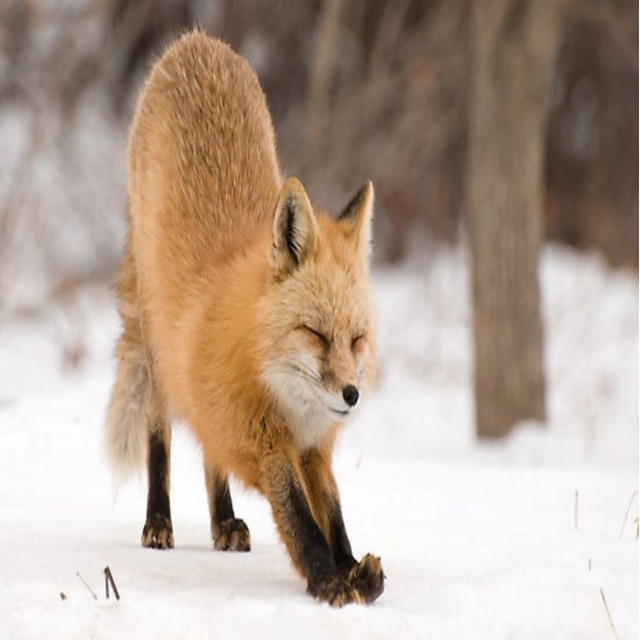Fox: (96, 18, 388, 613)
